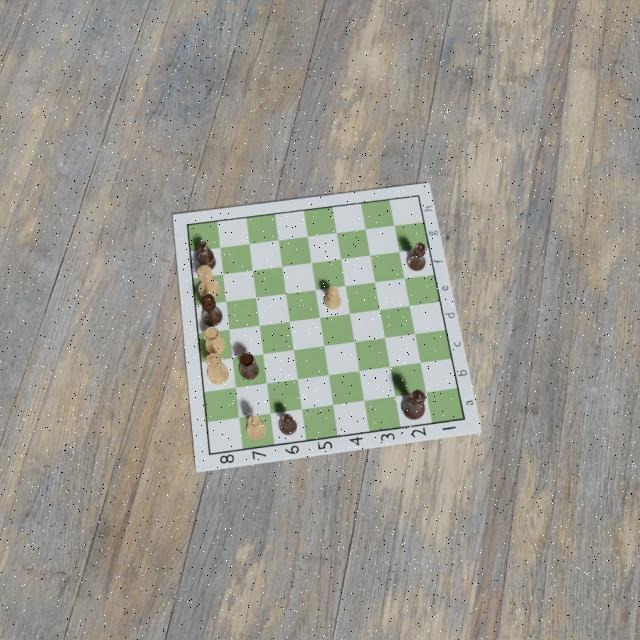black-bishop: (406, 241, 429, 273)
black-king: (401, 387, 427, 420)
black-knight: (194, 241, 217, 271)
black-pawn: (278, 412, 298, 435)
black-rook: (238, 352, 260, 380)
white-bishop: (246, 414, 268, 442)
white-king: (195, 264, 222, 300)
white-pawn: (324, 284, 344, 311)
white-queen: (203, 353, 228, 387), (200, 293, 222, 327)
white-rook: (203, 326, 226, 358)
